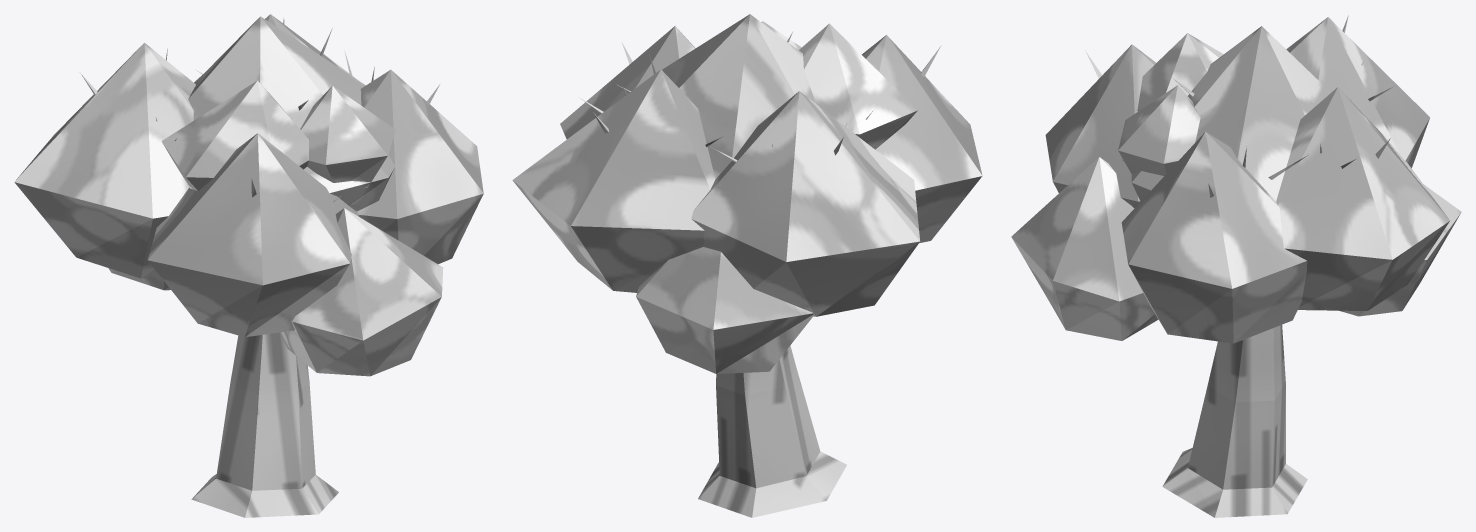
File: tree_oak_2.obj
The picture shows the model from 3 angles, left to right: view 1: azimuth 30°, elevation 25°; view 2: azimuth 150°, elevation 25°; view 3: azimuth 270°, elevation 25°; orthographic projection. The views are drawn at different scales.
Visible parts, largest first — view 1: tree_oak_2; view 2: tree_oak_2; view 3: tree_oak_2.
Part boxes in pixels (x1,y1,x2,y2): tree_oak_2: (14, 14, 483, 517); tree_oak_2: (512, 14, 982, 517); tree_oak_2: (1011, 15, 1461, 517).
Bounding box in the file's own units: 0.9375 × 1.04 × 0.9081.
